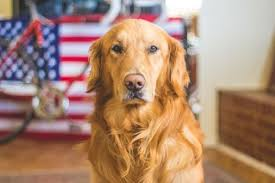Bulldog: (61, 9, 233, 183)
